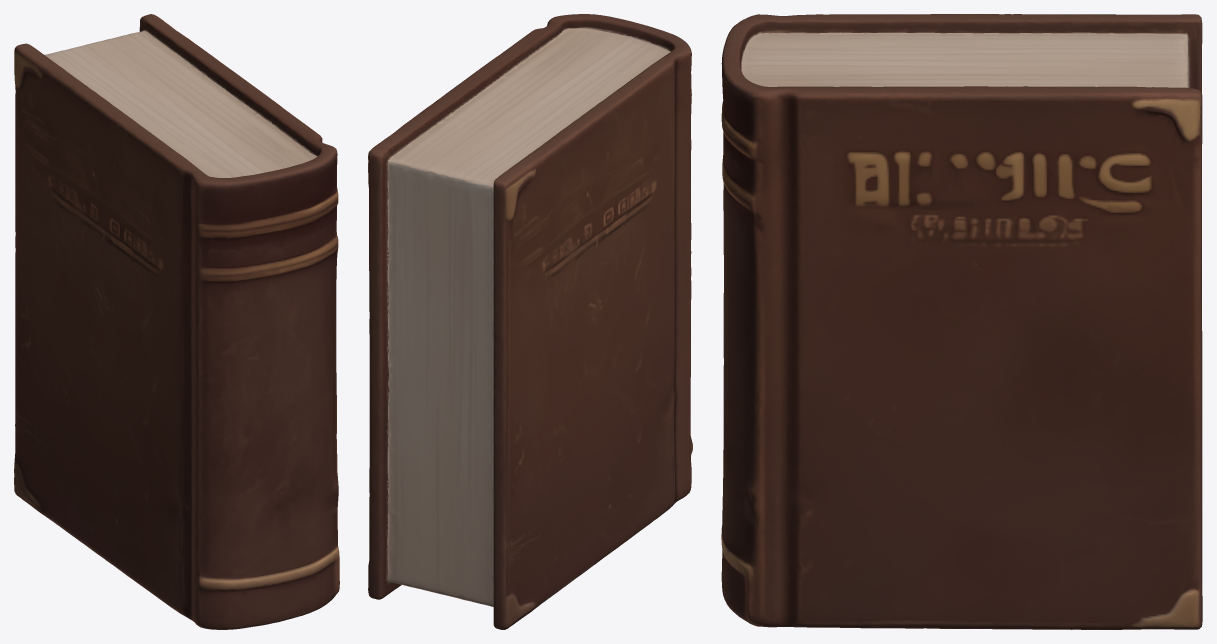
The model's file is special_PhysicsBook.glb.
3 renders of one model, left to right at view 1: azimuth 30°, elevation 25°; view 2: azimuth 150°, elevation 25°; view 3: azimuth 270°, elevation 25°, orthographic. The views are drawn at different scales.
Visible parts, largest first — view 1: world; view 2: world; view 3: world.
Boxes of the visible parts, box(x1,y1,x2,y2) form: world: box(14, 14, 339, 629); world: box(368, 14, 692, 629); world: box(721, 14, 1202, 629).
Size of the model in its own units: 0.3355 by 1 by 0.8111.
1 material, 1 textured.
